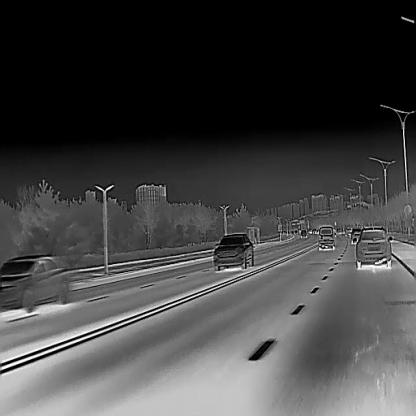car: (0, 254, 68, 312), (352, 224, 392, 268), (211, 232, 254, 270), (317, 225, 335, 250), (350, 227, 362, 237), (300, 228, 306, 238), (345, 227, 352, 235), (335, 227, 342, 234), (312, 229, 317, 234), (308, 229, 311, 234)
